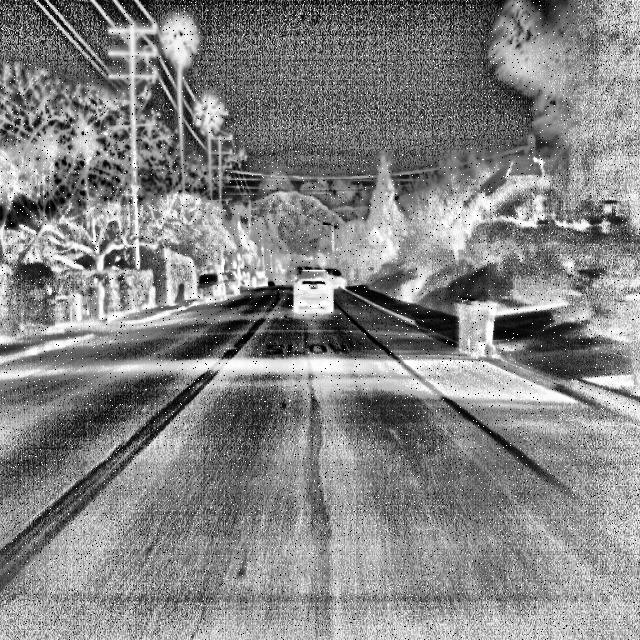car: (286, 263, 344, 317), (201, 270, 227, 310), (218, 265, 251, 296)
trash: (443, 296, 511, 369)
